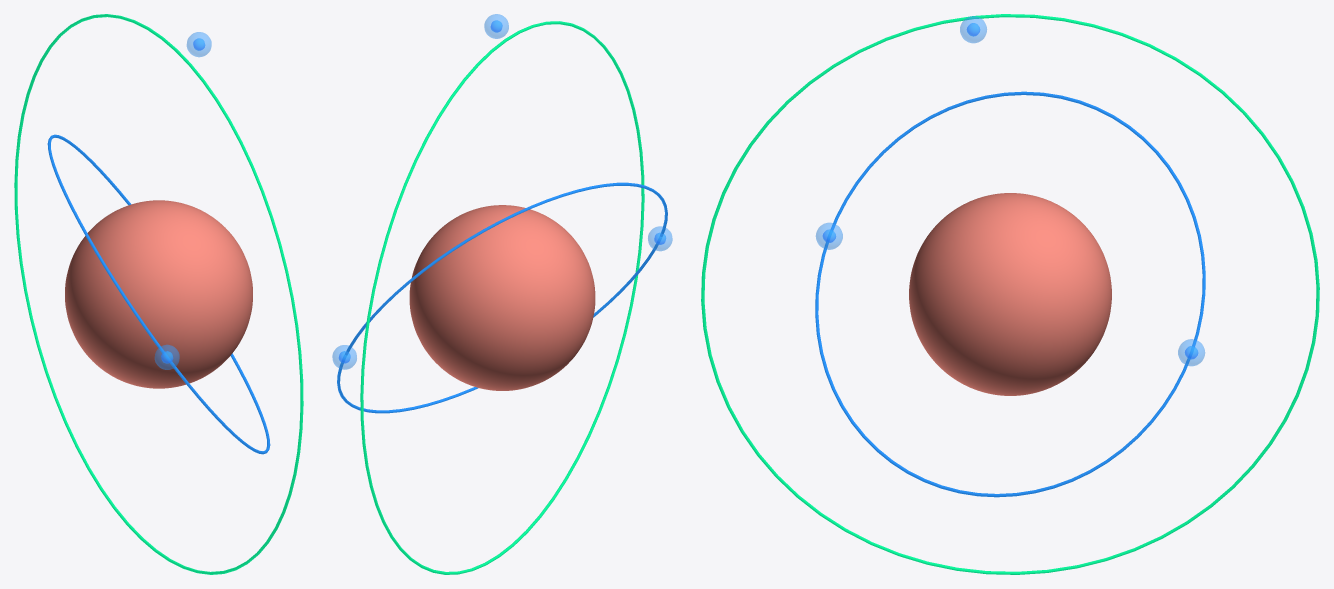
3 views of the same model, side by side, from view 1: azimuth 30°, elevation 25°; view 2: azimuth 150°, elevation 25°; view 3: azimuth 270°, elevation 25° (orthographic). The views are drawn at different scales.
Visible parts, largest first — view 1: Li, object 7, object 2, object 8, object 3; view 2: Li, object 7, object 2, object 8, object 3, object 5; view 3: Li, object 7, object 2.
Part boxes in pixels (x1,y1,x2,y2): Li: (65, 200, 252, 388); object 7: (14, 14, 303, 574); object 2: (47, 134, 270, 454); object 8: (186, 32, 211, 57); object 3: (154, 344, 179, 369); Li: (409, 205, 595, 390); object 7: (360, 21, 644, 574); object 2: (337, 182, 667, 413); object 8: (484, 14, 508, 38); object 3: (648, 226, 672, 251); object 5: (332, 345, 356, 369); Li: (909, 193, 1111, 395); object 7: (701, 14, 1319, 574); object 2: (815, 91, 1205, 497).
Bounding box in the file's own units: 1.6 × 3.68 × 3.62.
